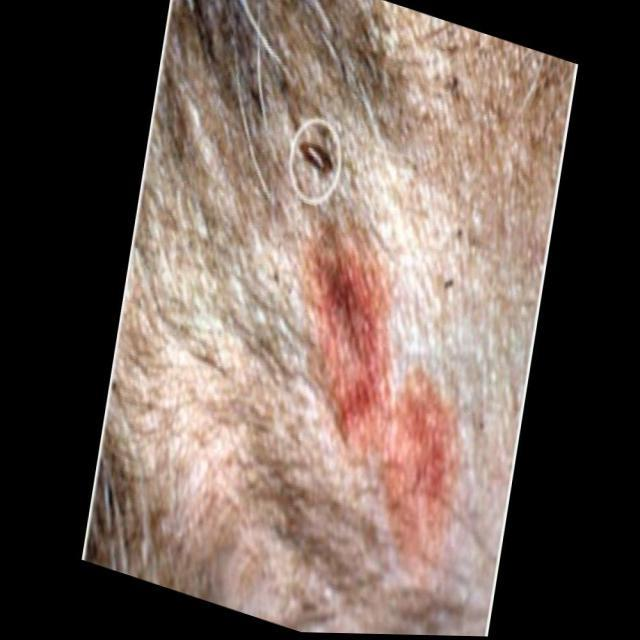allergic dermatitis: (288, 233, 467, 584)
